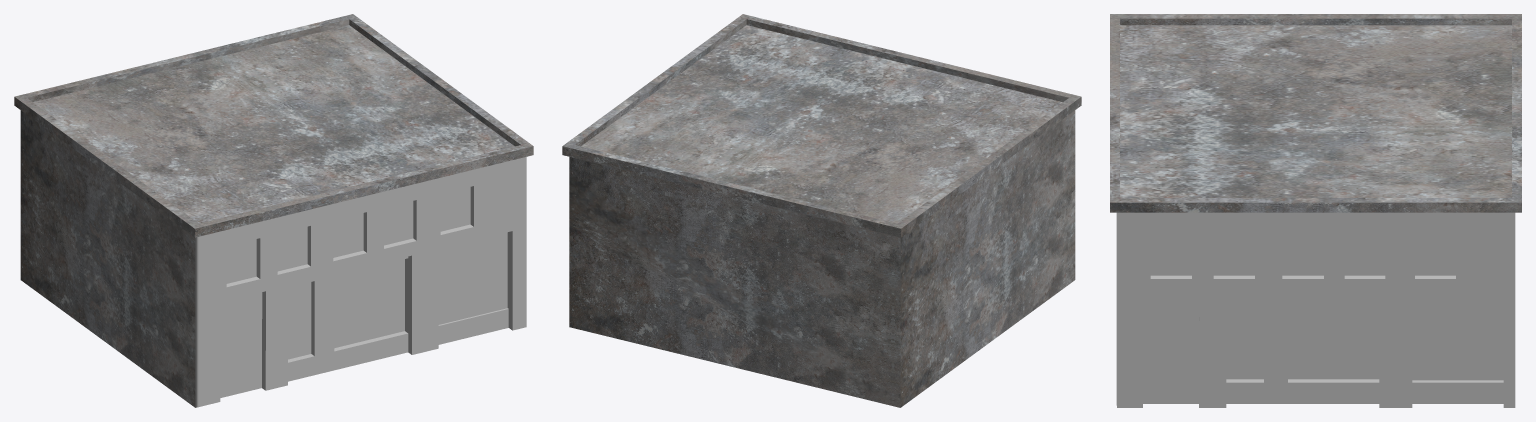
3 views of the same model, side by side, from view 1: azimuth 30°, elevation 25°; view 2: azimuth 150°, elevation 25°; view 3: azimuth 270°, elevation 25° (orthographic). The views are drawn at different scales.
Visible parts, largest first — view 1: B21 (2); view 2: B21 (2); view 3: B21 (2).
Part boxes in pixels (box(x1,y1,x2,y2)): B21 (2): box(14, 14, 533, 407); B21 (2): box(562, 14, 1081, 407); B21 (2): box(1110, 14, 1521, 407).
Size of the model in its own units: 2226 by 1144 by 2056.
